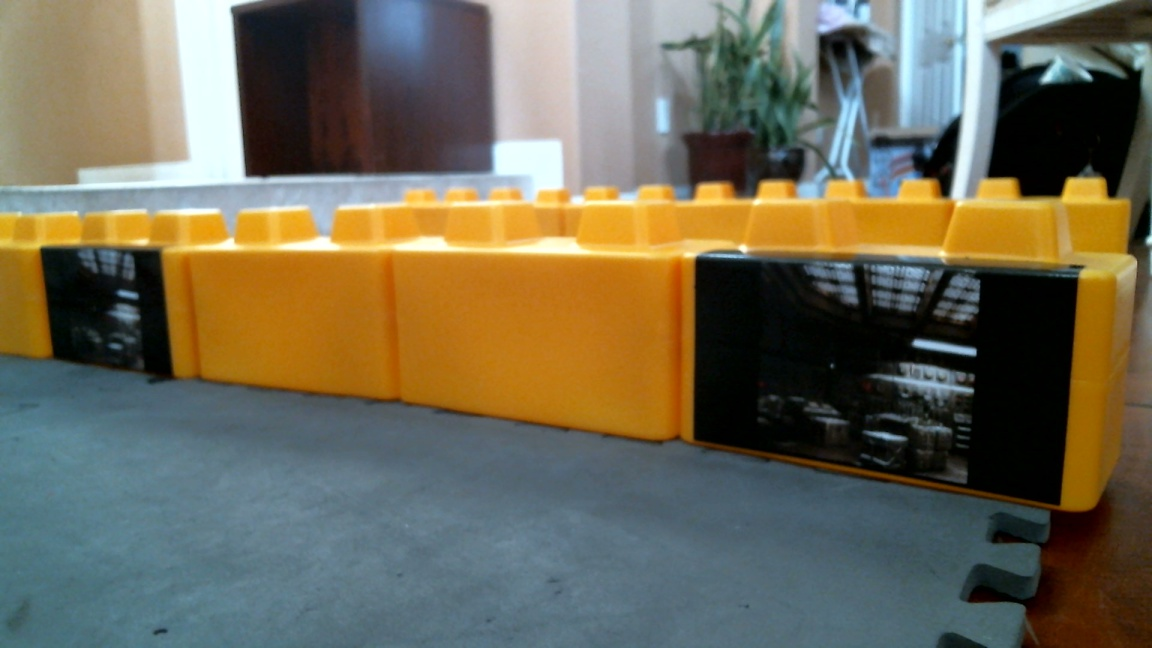skystone: (684, 192, 1102, 512), (52, 192, 198, 388)
stone: (388, 179, 683, 447), (192, 188, 391, 409)
